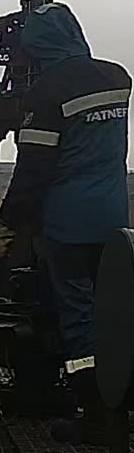vest: (21, 59, 134, 248)
